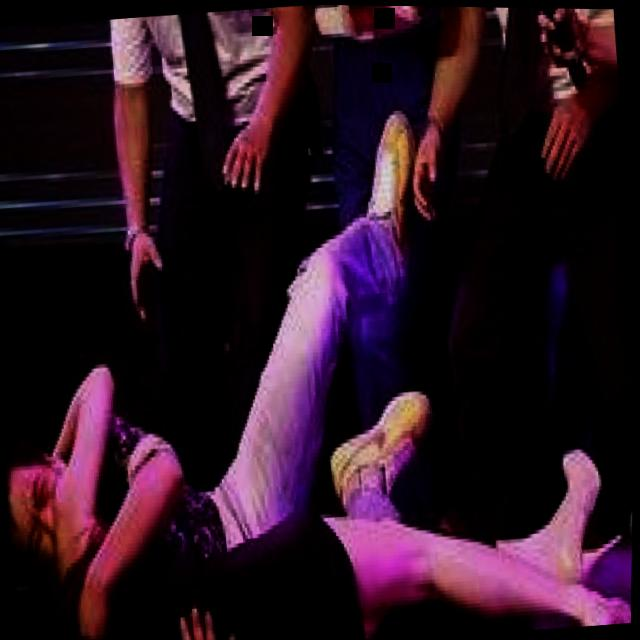Fall-Detected: (0, 55, 639, 640)
